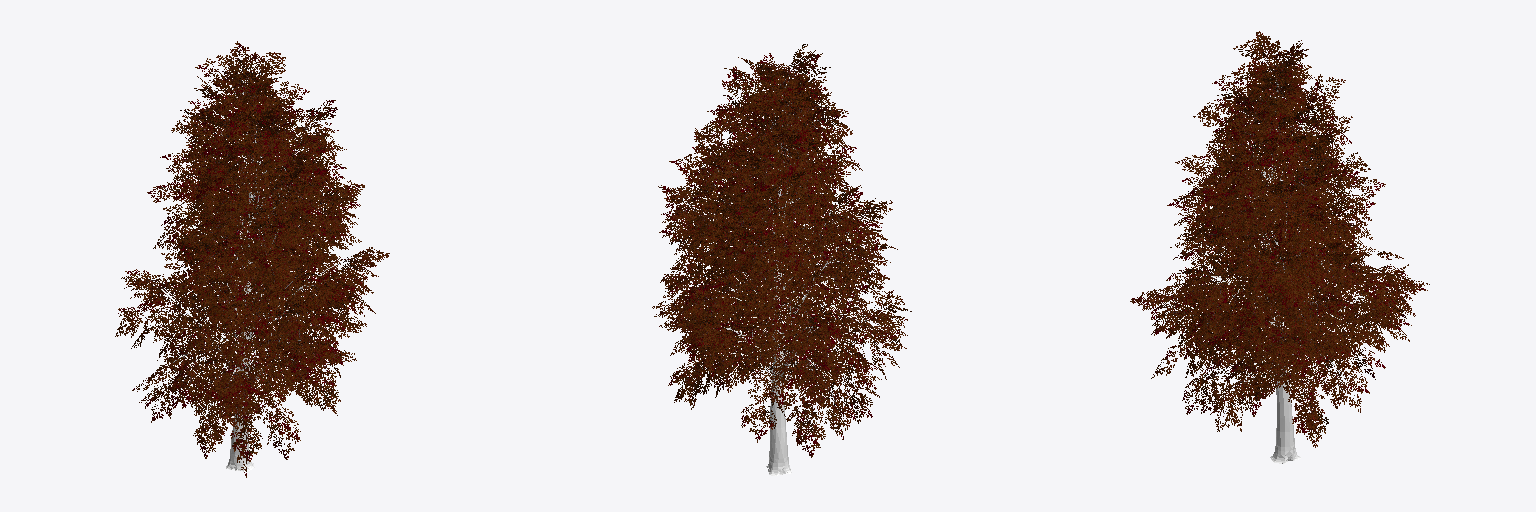
The picture shows the model from 3 angles: view 1: azimuth 30°, elevation 25°; view 2: azimuth 150°, elevation 25°; view 3: azimuth 270°, elevation 25°; orthographic projection.
Visible parts, largest first — view 1: Tree; view 2: Tree; view 3: Tree.
Part boxes in pixels (x1,y1,x2,y2): Tree: (115, 41, 389, 477); Tree: (652, 44, 911, 475); Tree: (1130, 31, 1429, 463).
Bounding box in the file's own units: 4.24 × 7.59 × 4.99.
2 materials, 1 textured.